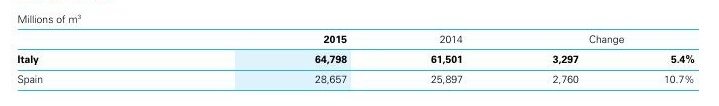table: (0, 0, 719, 106)
